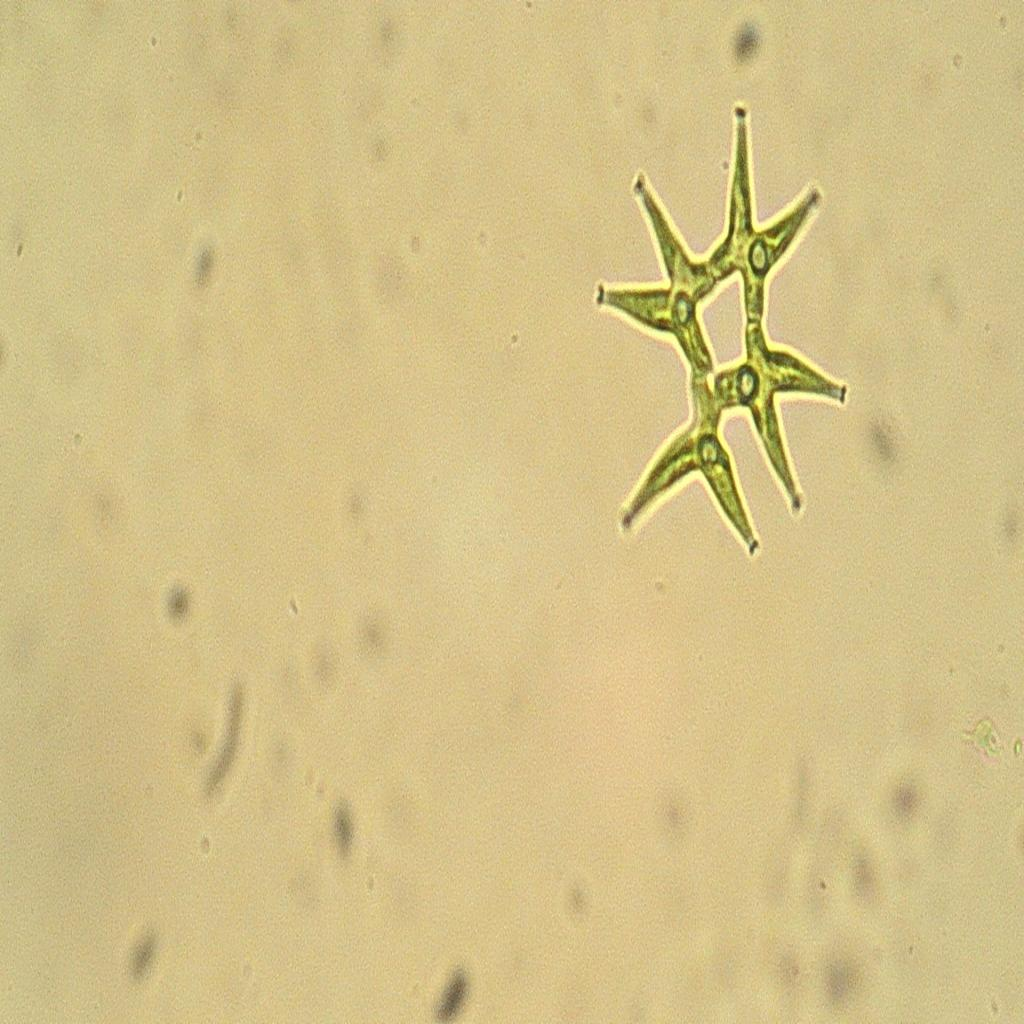Pediastrum_CT: (590, 68, 860, 586)
